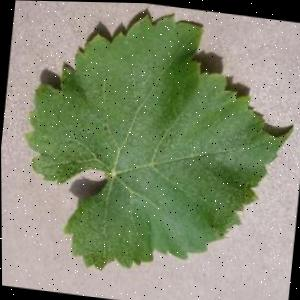Folha: (10, 0, 300, 292)
